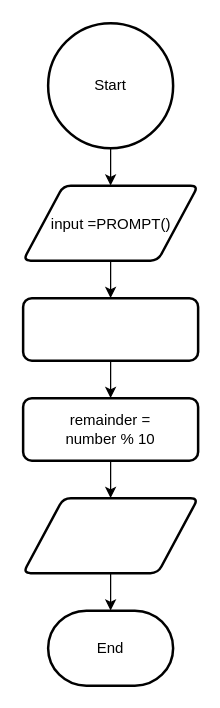
The diagram is 220 pixels wide and 708 high, and some of its shapes have lost their labels. Each missing label, with the centre of its shape:
number = INT( input ): the point at 110,328
remainder -> console log: the point at 110,535
